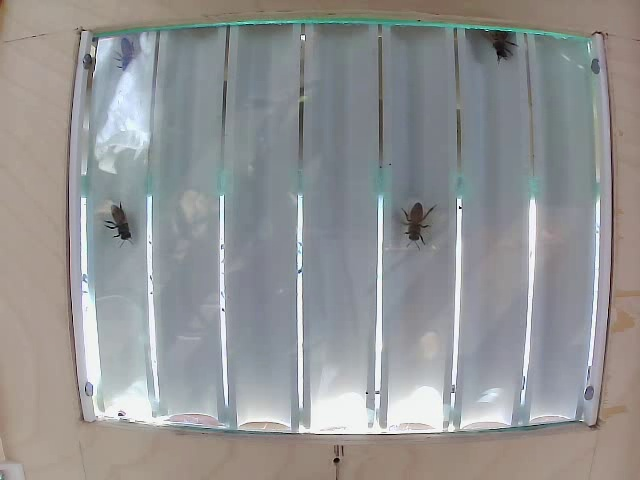bee: (401, 196, 441, 253), (101, 198, 137, 248), (479, 26, 518, 68), (117, 33, 142, 80)
